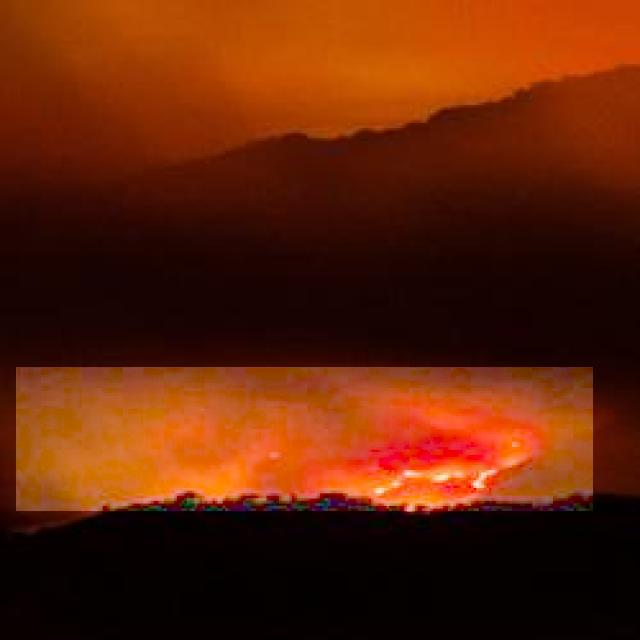Fire: (356, 466, 498, 503)
Smoke: (16, 368, 593, 512)
